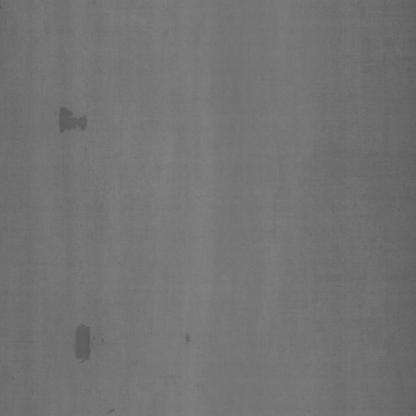oil_spot: (72, 314, 96, 366), (58, 100, 93, 134), (182, 327, 193, 348)
